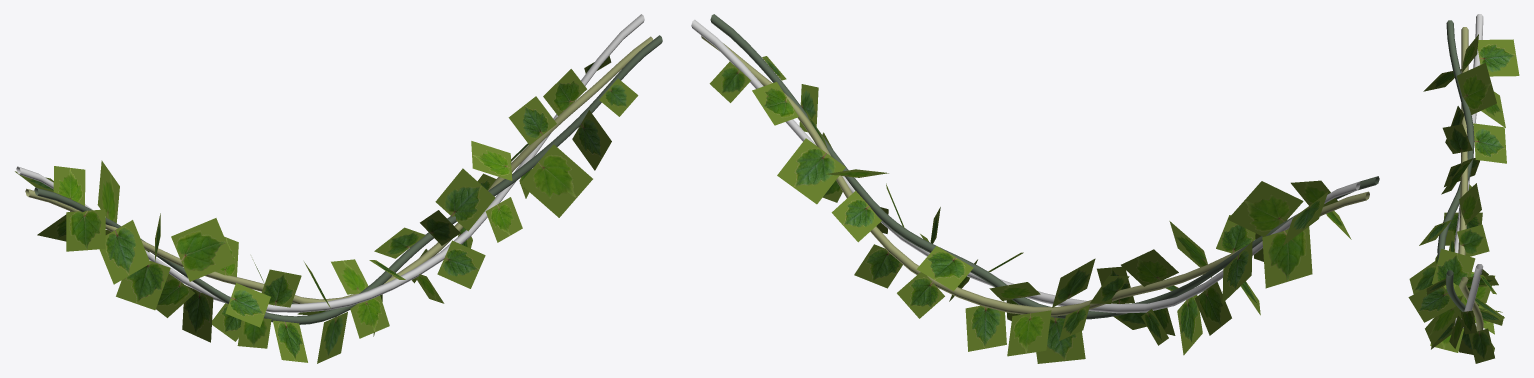
Rendered from sb_obj_nature010_Jungles02c.fbx.
3 renders of one model, left to right at view 1: azimuth 30°, elevation 25°; view 2: azimuth 150°, elevation 25°; view 3: azimuth 270°, elevation 25°, orthographic. The views are drawn at different scales.
Parts seen in each view (by area): view 1: leaf02c, sb_obj_nature010_Jungles02c; view 2: leaf02c, sb_obj_nature010_Jungles02c; view 3: leaf02c, sb_obj_nature010_Jungles02c.
Boxes of the visible parts, bbox=[...] form: leaf02c: bbox=[15, 56, 638, 363]; sb_obj_nature010_Jungles02c: bbox=[16, 14, 662, 324]; leaf02c: bbox=[709, 56, 1351, 363]; sb_obj_nature010_Jungles02c: bbox=[691, 14, 1379, 319]; leaf02c: bbox=[1408, 34, 1519, 363]; sb_obj_nature010_Jungles02c: bbox=[1437, 14, 1483, 331].
Size of the model in its own units: 4 by 1.56 by 0.7513.
